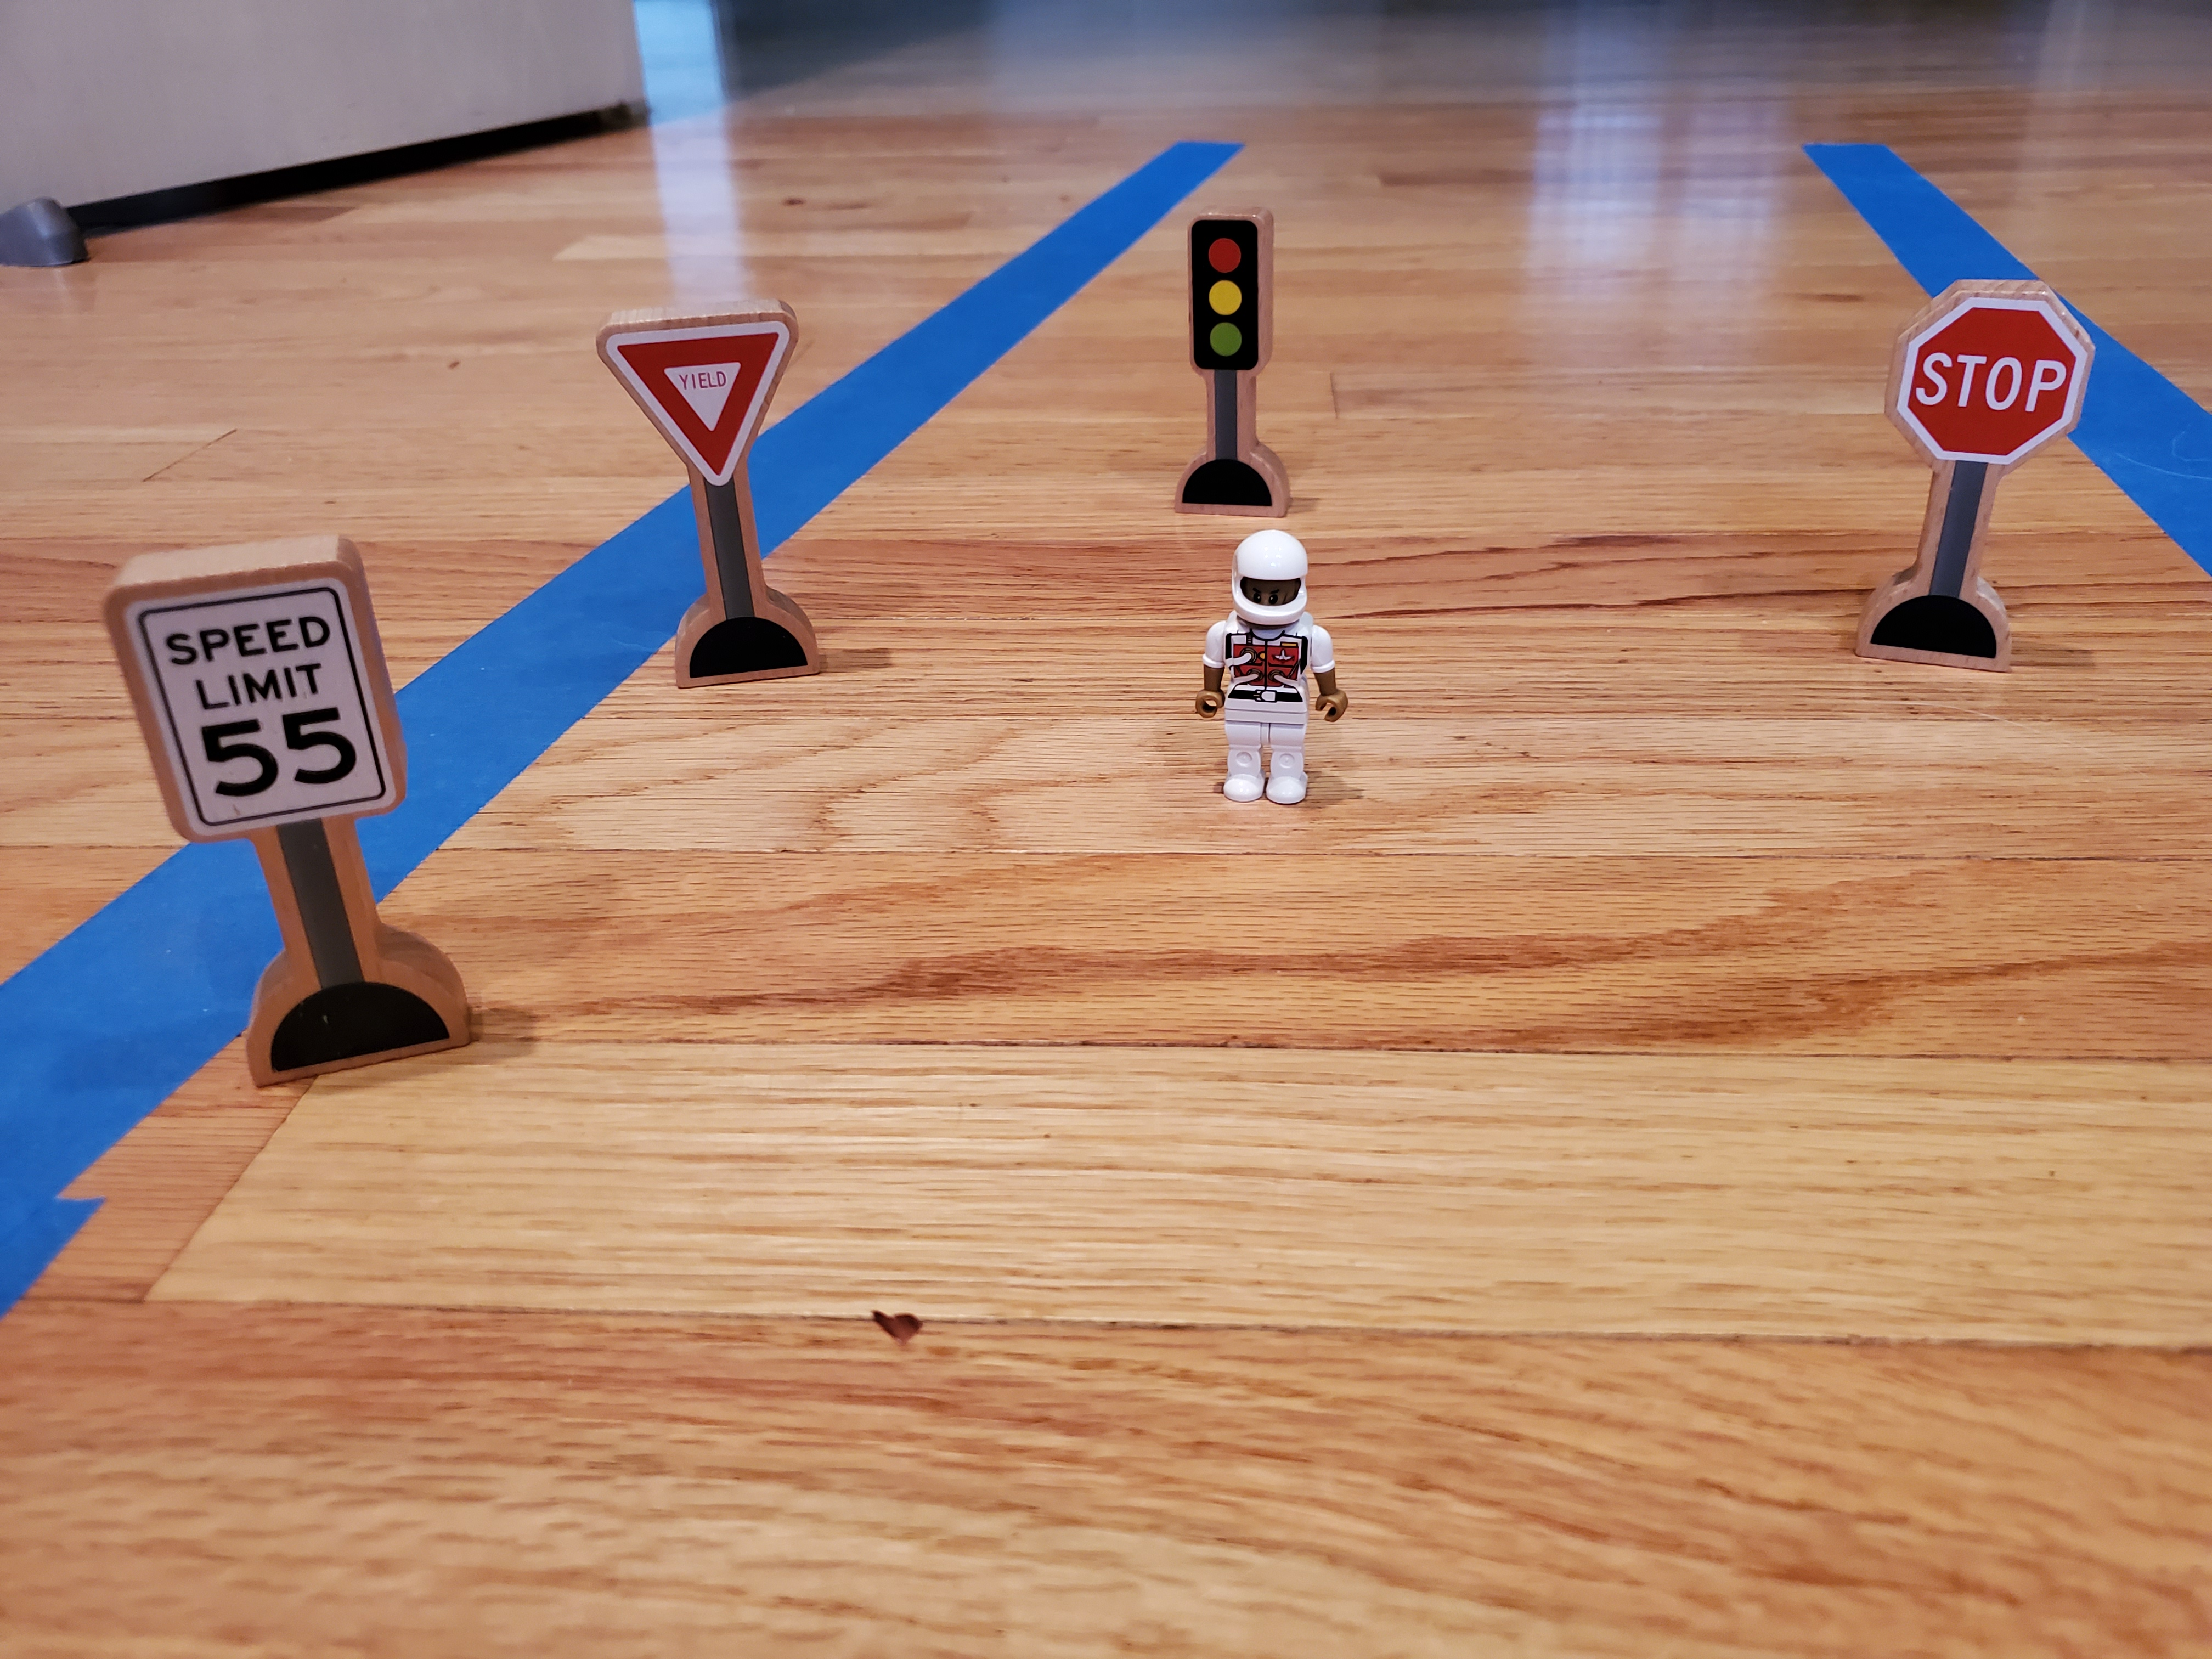Red Traffic Light: (1181, 205, 1278, 380)
Speed Limit 55: (100, 534, 413, 834)
Stop Sign: (1874, 264, 2109, 483)
Yield Sign: (594, 302, 802, 501)
person: (1196, 535, 1348, 814)
